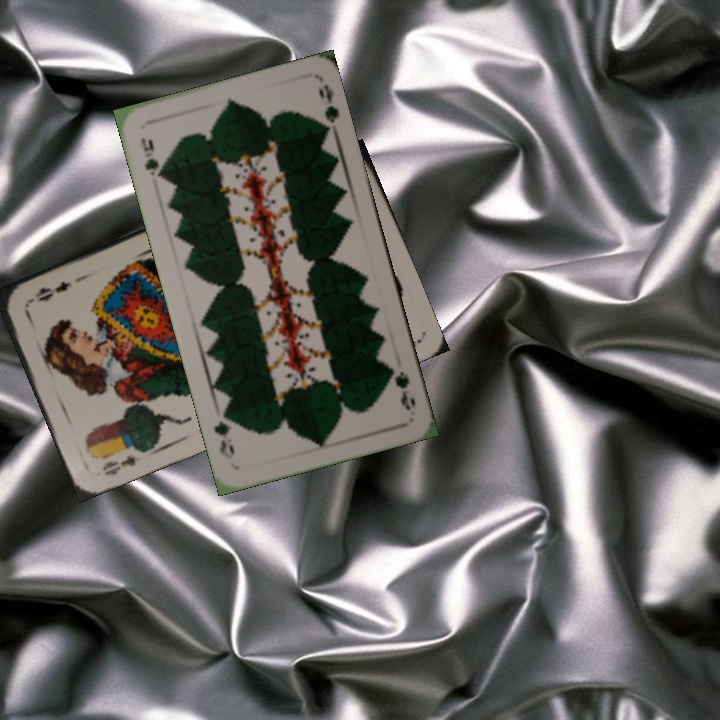EO: (98, 451, 144, 478)
G9: (383, 361, 419, 413), (137, 133, 167, 183)
